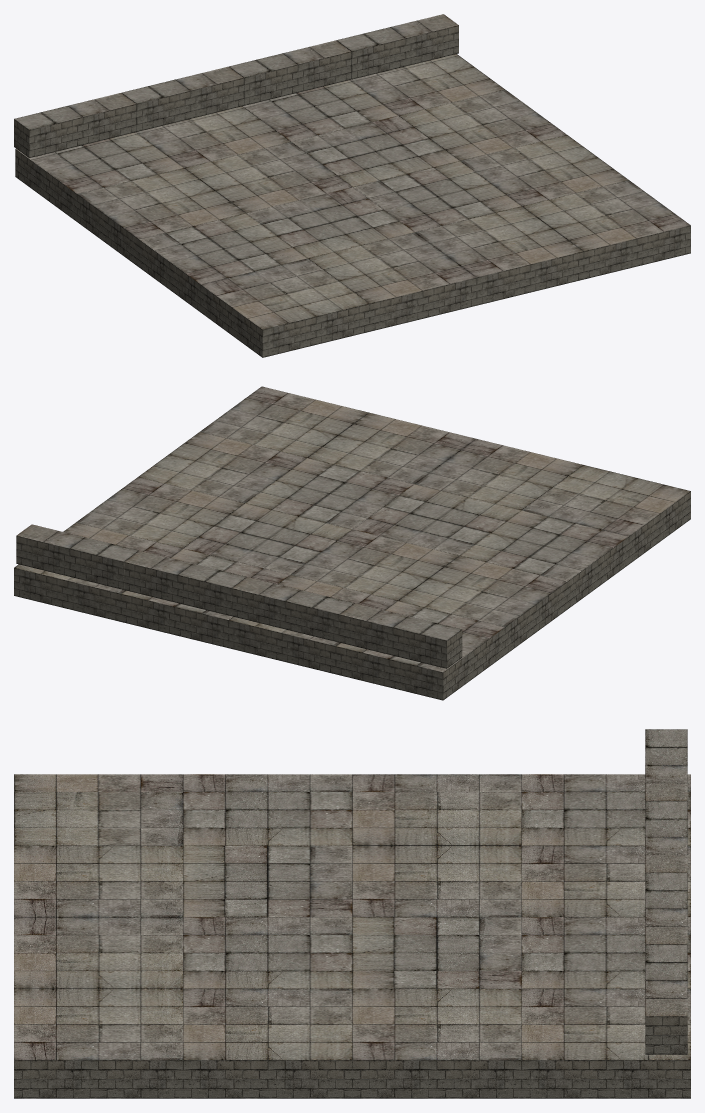
Rendered from background.FBX.
3 views of the same model, one above another, from view 1: azimuth 30°, elevation 25°; view 2: azimuth 150°, elevation 25°; view 3: azimuth 270°, elevation 25° (orthographic). The views are drawn at different scales.
Visible parts, largest first — view 1: BB_16x16x1, BB_4x1x1, BB_4x1x004, BB_4x1x002, BB_4x1x003; view 2: BB_16x16x1, BB_4x1x1, BB_4x1x004, BB_4x1x003, BB_4x1x002; view 3: BB_16x16x1, BB_4x1x004, BB_4x1x1, BB_4x1x003, BB_4x1x002.
Boxes of the visible parts, x1,y1,x2,y2 form: BB_16x16x1: [15, 54, 690, 357]; BB_4x1x1: [14, 93, 136, 157]; BB_4x1x004: [336, 14, 458, 79]; BB_4x1x002: [121, 66, 243, 131]; BB_4x1x003: [229, 40, 351, 105]; BB_16x16x1: [14, 386, 690, 700]; BB_4x1x1: [339, 603, 462, 668]; BB_4x1x004: [16, 524, 138, 589]; BB_4x1x003: [124, 551, 246, 616]; BB_4x1x002: [232, 577, 354, 642]; BB_16x16x1: [14, 774, 690, 1098]; BB_4x1x004: [645, 945, 687, 1054]; BB_4x1x1: [645, 729, 687, 801]; BB_4x1x003: [645, 873, 687, 944]; BB_4x1x002: [645, 801, 687, 872].
Size of the model in its own units: 805 by 800 by 106.
